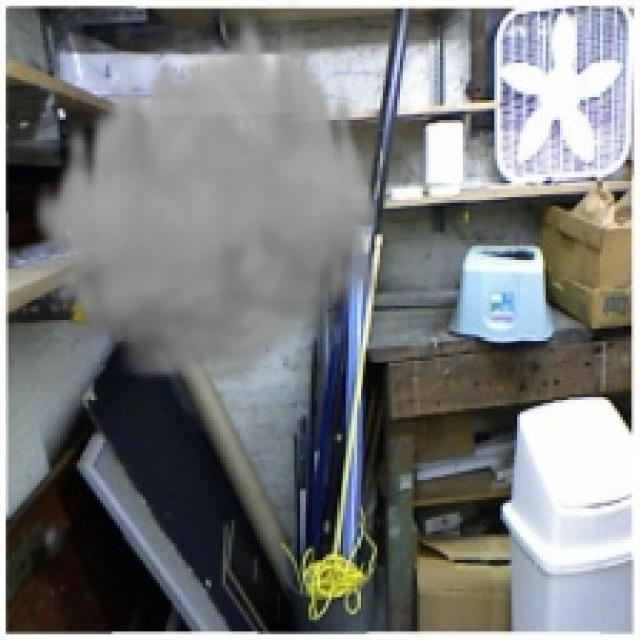smoke: (28, 0, 383, 395)
